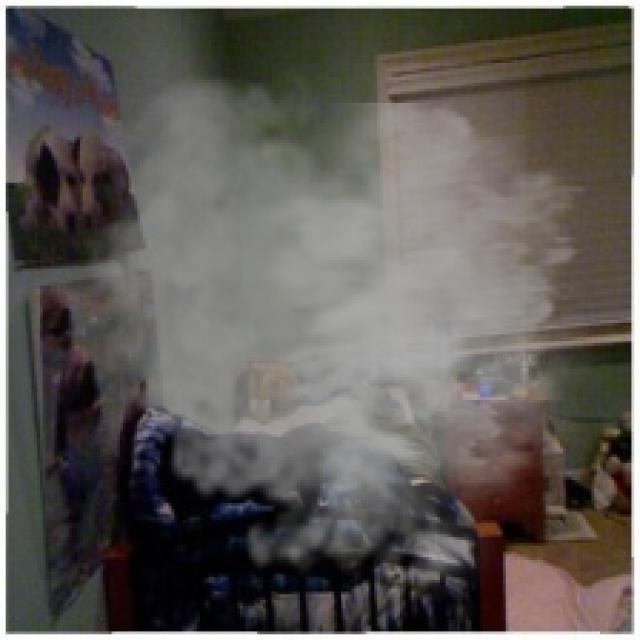Smoke: (68, 63, 623, 606)
